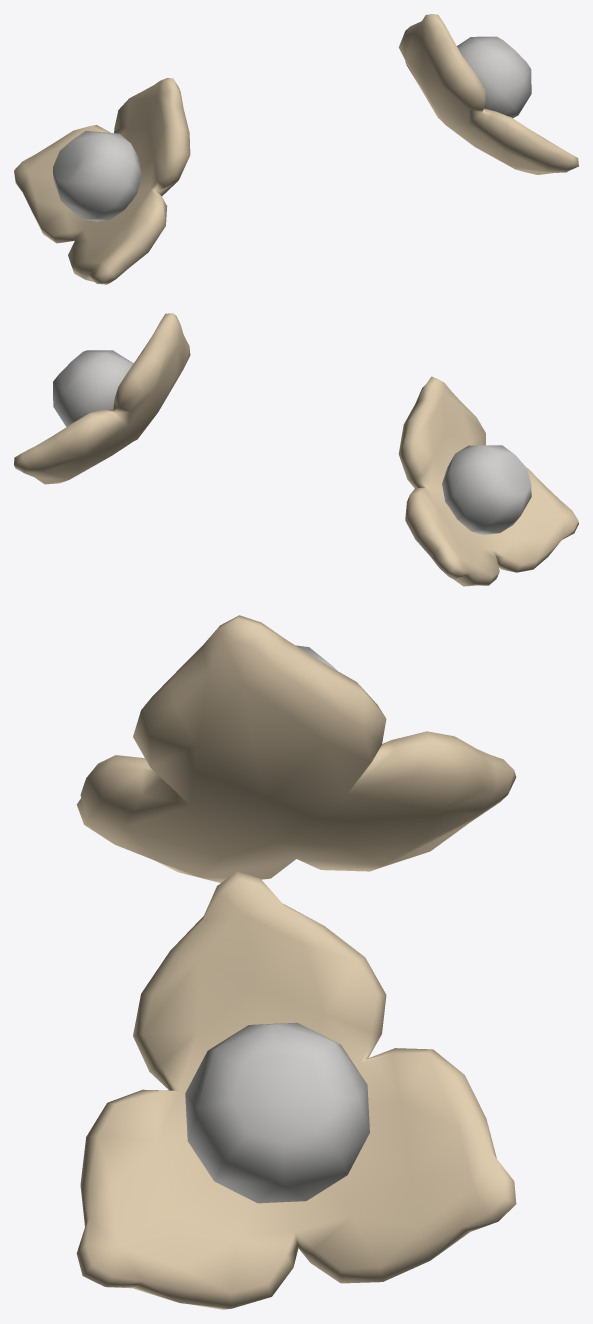
File: S12_Plant04_L2_Ear.glb
3 views of the same model, one above another, from view 1: azimuth 30°, elevation 25°; view 2: azimuth 150°, elevation 25°; view 3: azimuth 270°, elevation 25° (orthographic). The views are drawn at different scales.
Visible parts, largest first — view 1: S12_Plant04_L2_Ear__Ear_L__surface0__lod0, S12_Plant04_L2_Ear__Ear_R__surface1__lod0; view 2: S12_Plant04_L2_Ear__Ear_L__surface0__lod0, S12_Plant04_L2_Ear__Ear_R__surface1__lod0; view 3: S12_Plant04_L2_Ear__Ear_R__surface1__lod0, S12_Plant04_L2_Ear__Ear_L__surface0__lod0.
Part boxes in pixels (x1,y1,x2,y2): S12_Plant04_L2_Ear__Ear_L__surface0__lod0: (14,78,190,284); S12_Plant04_L2_Ear__Ear_R__surface1__lod0: (398,14,578,174); S12_Plant04_L2_Ear__Ear_L__surface0__lod0: (398,376,578,586); S12_Plant04_L2_Ear__Ear_R__surface1__lod0: (14,313,190,484); S12_Plant04_L2_Ear__Ear_R__surface1__lod0: (76,871,516,1309); S12_Plant04_L2_Ear__Ear_L__surface0__lod0: (76,615,516,882).
Size of the model in its own units: 1.19 by 0.4144 by 0.4698.
